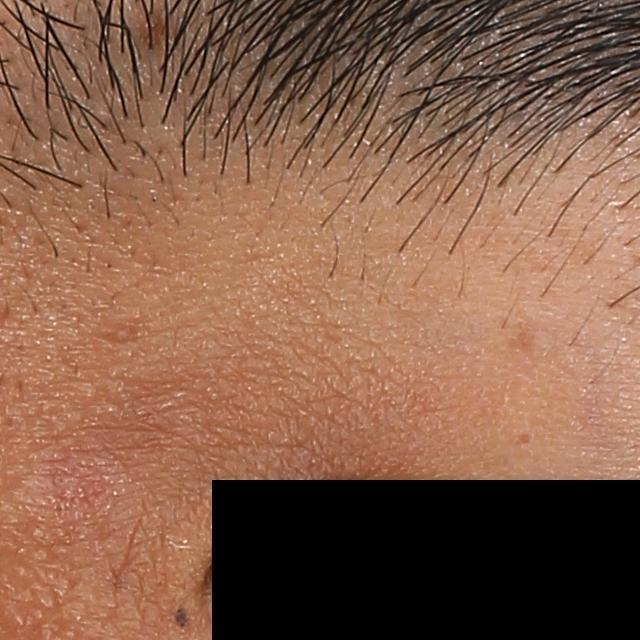nevus: (172, 603, 190, 631)
